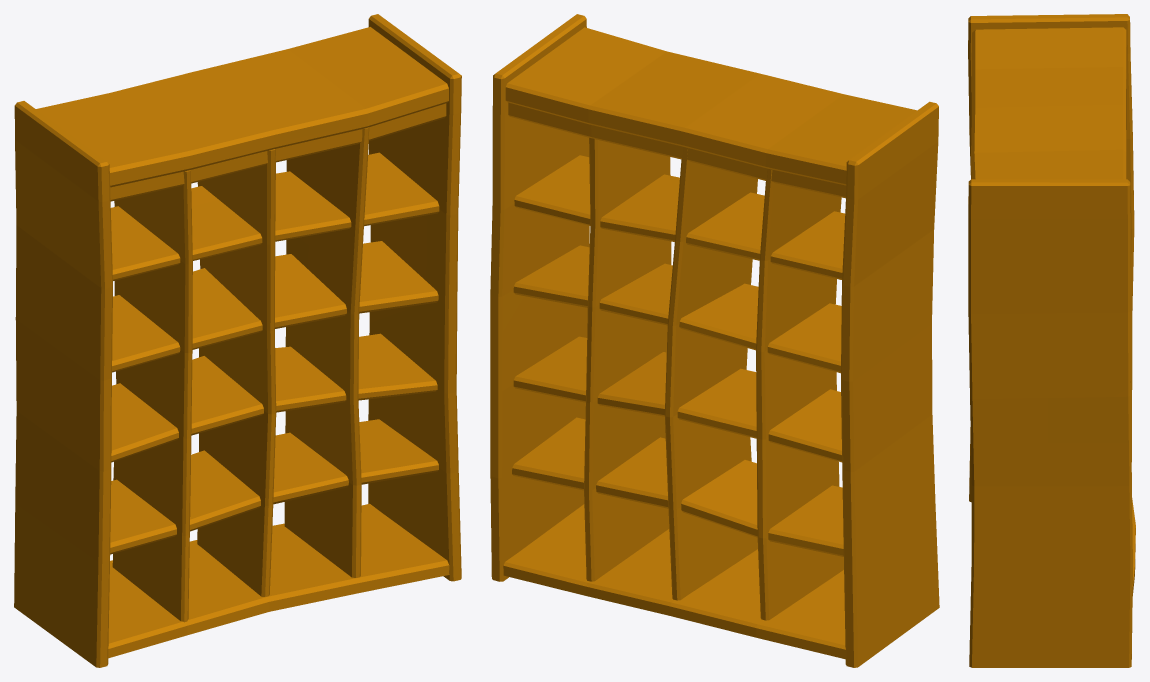
The model's file is locker_02.fbx.
The picture shows the model from 3 angles, left to right: view 1: azimuth 30°, elevation 25°; view 2: azimuth 150°, elevation 25°; view 3: azimuth 270°, elevation 25°; orthographic projection. The views are drawn at different scales.
Parts seen in each view (by area): view 1: locker 2; view 2: locker 2; view 3: locker 2.
Part boxes in pixels (bbox=[...]): locker 2: bbox=[14, 14, 461, 667]; locker 2: bbox=[490, 14, 939, 667]; locker 2: bbox=[968, 14, 1135, 667].
Bounding box in the file's own units: 137 × 180 × 56.56.
